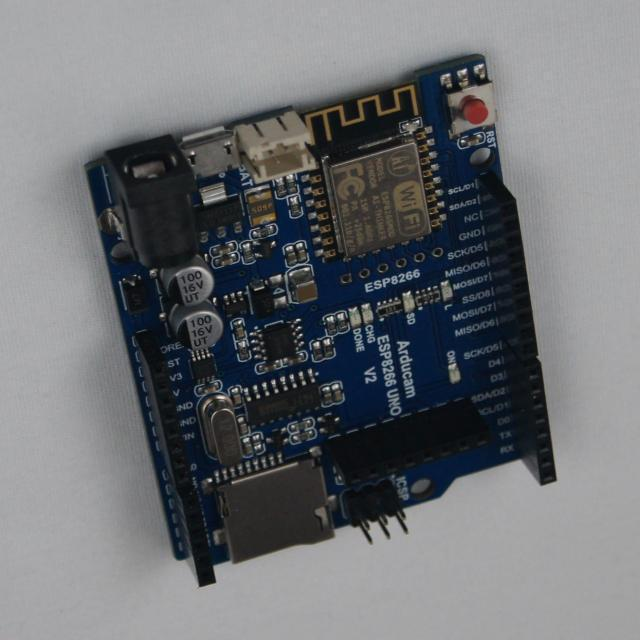Arduino Uno Camera Shield: (88, 56, 556, 587)
